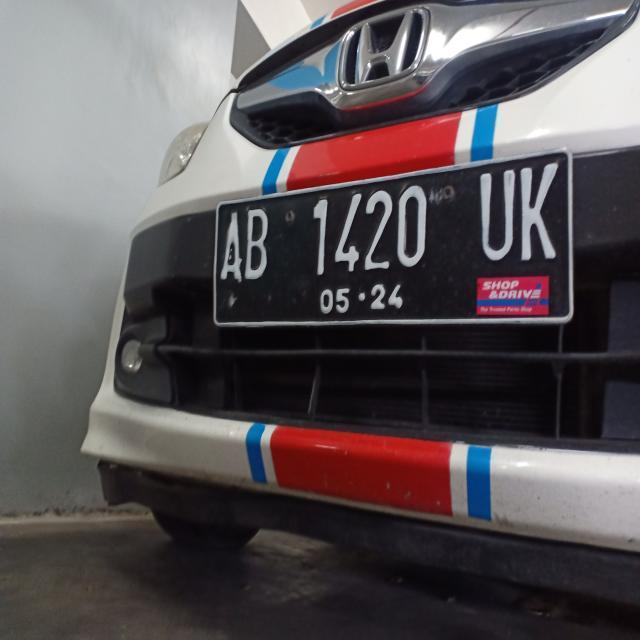0: (399, 184, 431, 268)
1: (306, 200, 332, 282)
2: (364, 190, 398, 274)
4: (334, 195, 362, 278)
A: (223, 210, 244, 288)
B: (245, 205, 272, 285)
K: (516, 165, 560, 256)
U: (476, 170, 516, 262)
